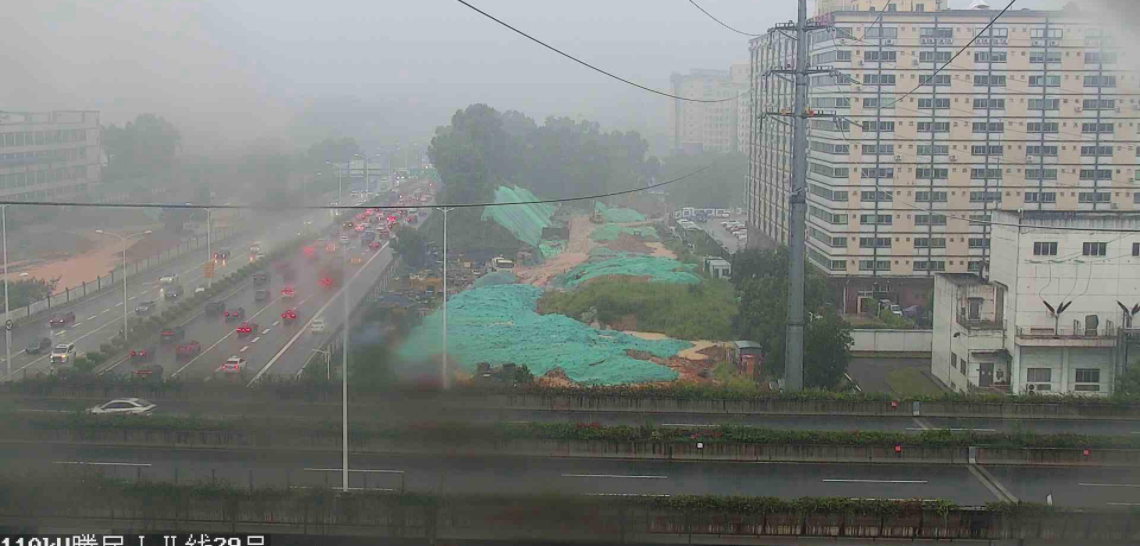绿膜: (394, 281, 551, 378), (550, 312, 696, 387), (549, 244, 707, 289), (480, 183, 559, 248), (521, 233, 568, 266), (588, 222, 659, 241), (595, 201, 647, 223), (471, 269, 520, 282)
